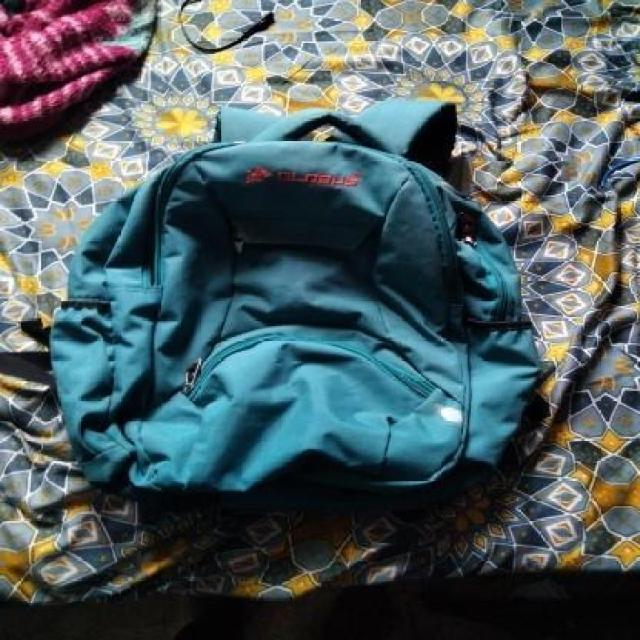backpack: (42, 92, 549, 518)
